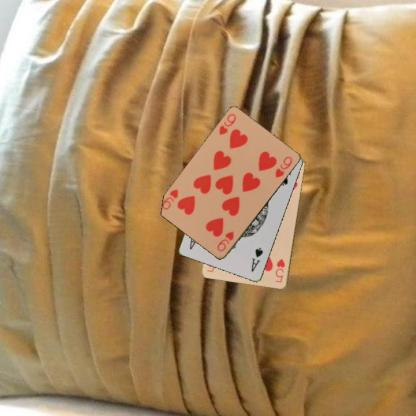5h: (272, 256, 286, 284)
9h: (216, 111, 238, 136), (214, 229, 235, 253)
As: (248, 245, 264, 273)
